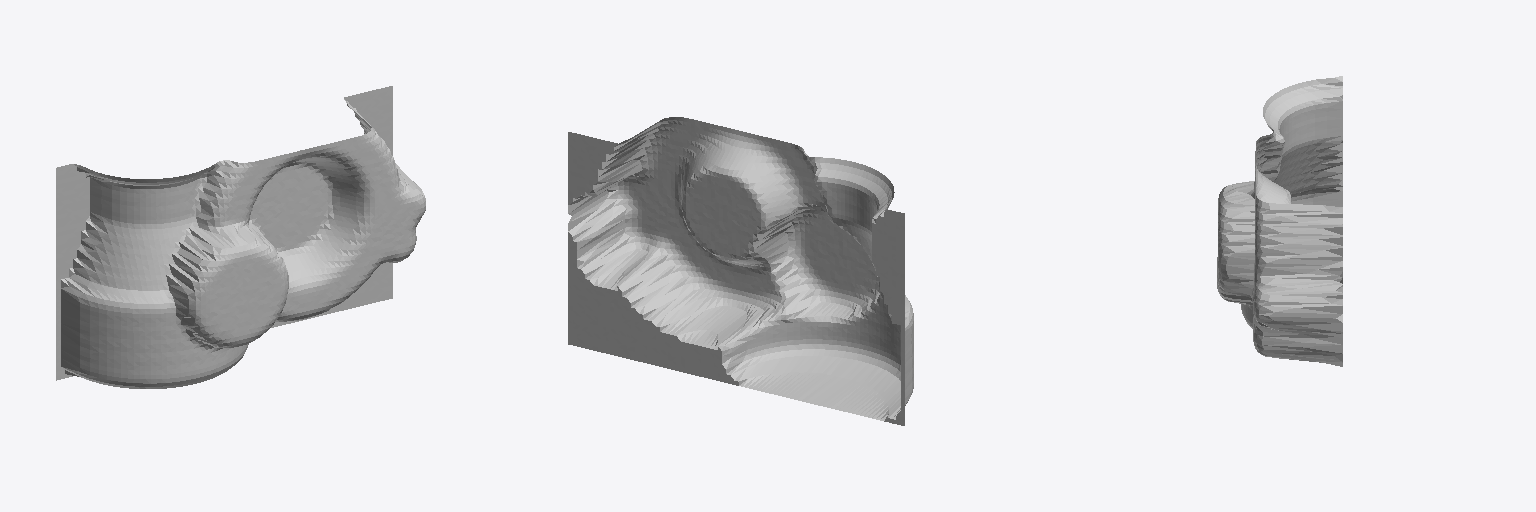
The model's file is tiny_stamp-original.obj.
3 renders of one model, left to right at view 1: azimuth 30°, elevation 25°; view 2: azimuth 150°, elevation 25°; view 3: azimuth 270°, elevation 25°, orthographic.
Bounding box in the file's own units: 2 × 1.21 × 0.6466.